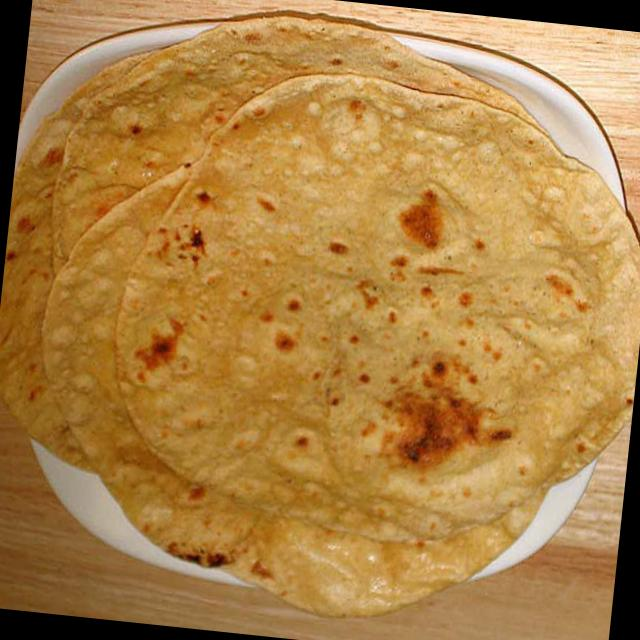roti: (0, 15, 640, 622)
